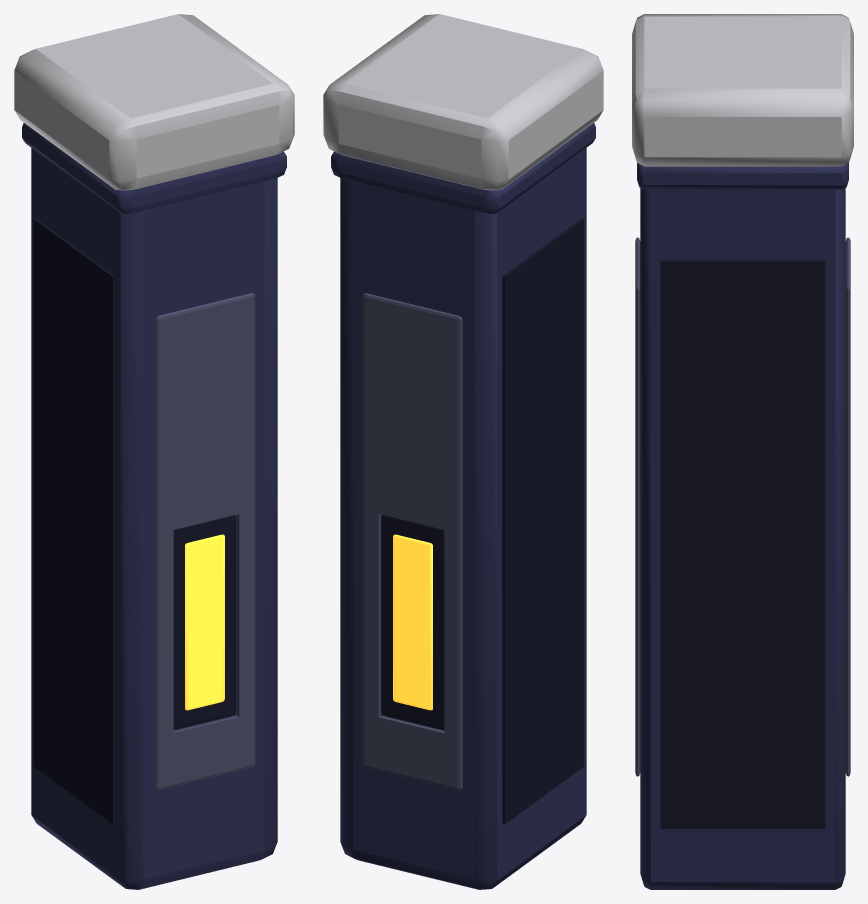
File: post.normal.glb
The picture shows the model from 3 angles, left to right: view 1: azimuth 30°, elevation 25°; view 2: azimuth 150°, elevation 25°; view 3: azimuth 270°, elevation 25°; orthographic projection. The views are drawn at different scales.
Parts seen in each view (by area): view 1: GEO-post.normal; view 2: GEO-post.normal; view 3: GEO-post.normal.
Part boxes in pixels (left/top/right/bottom): GEO-post.normal: left=14, top=14, right=294, bottom=889; GEO-post.normal: left=323, top=14, right=603, bottom=889; GEO-post.normal: left=632, top=14, right=853, bottom=889.
Bounding box in the file's own units: 0.25 × 1 × 0.25.
